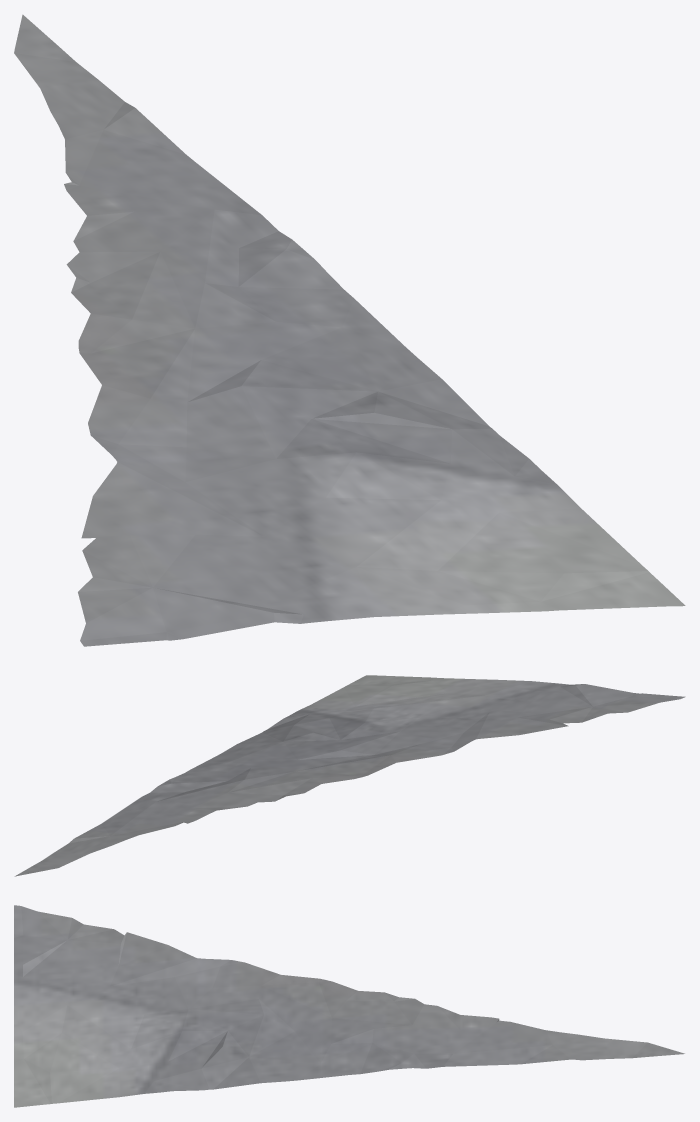
The picture shows the model from 3 angles, top to bottom: view 1: azimuth 30°, elevation 25°; view 2: azimuth 150°, elevation 25°; view 3: azimuth 270°, elevation 25°; orthographic projection. The views are drawn at different scales.
Bounding box in the file's own units: 2.29 × 0.3856 × 4.36.
1 material, 1 textured.
